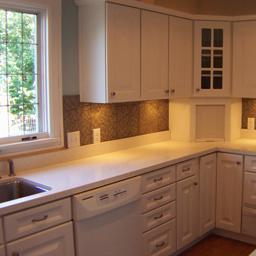Electrodomestico: (71, 180, 145, 253)
Ventana: (2, 0, 60, 150)
